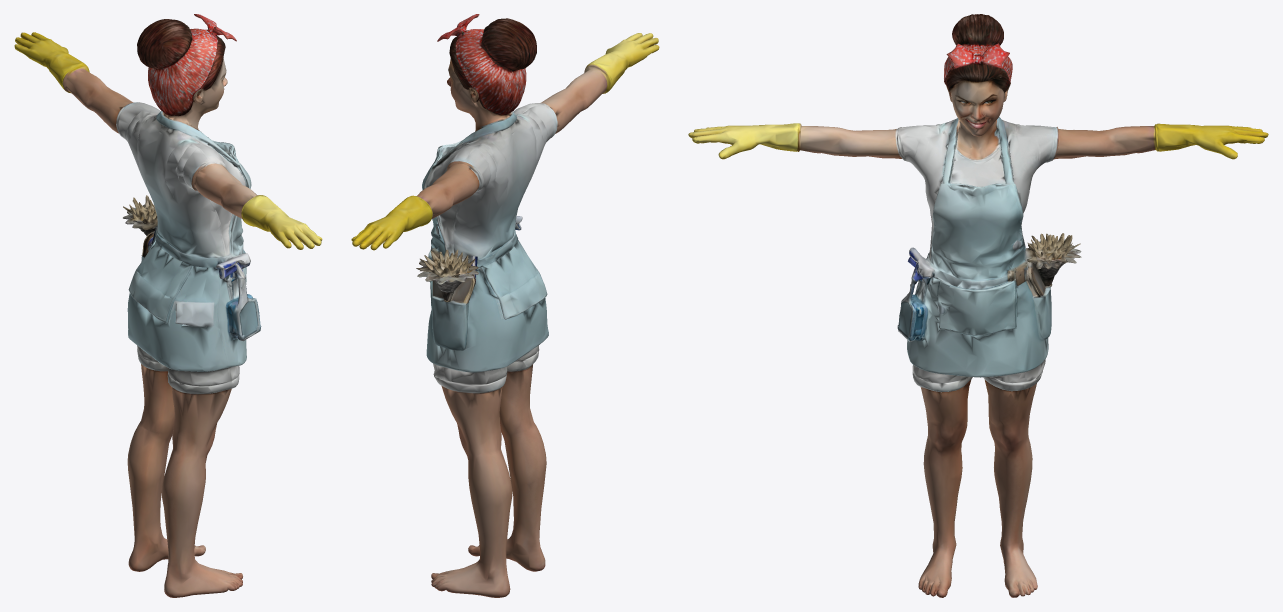
File: the-cleanfreak.glb
The picture shows the model from 3 angles, left to right: view 1: azimuth 30°, elevation 25°; view 2: azimuth 150°, elevation 25°; view 3: azimuth 270°, elevation 25°; orthographic projection.
Visible parts, largest first — view 1: 11-cleanfreak; view 2: 11-cleanfreak; view 3: 11-cleanfreak.
Boxes of the visible parts, x1,y1,x2,y2 form: 11-cleanfreak: (14,14,322,597); 11-cleanfreak: (351,14,659,597); 11-cleanfreak: (688,14,1268,597).
Size of the model in its own units: 0.1816 by 0.9782 by 0.9235.
Materials: 1 (1 with a texture image).
